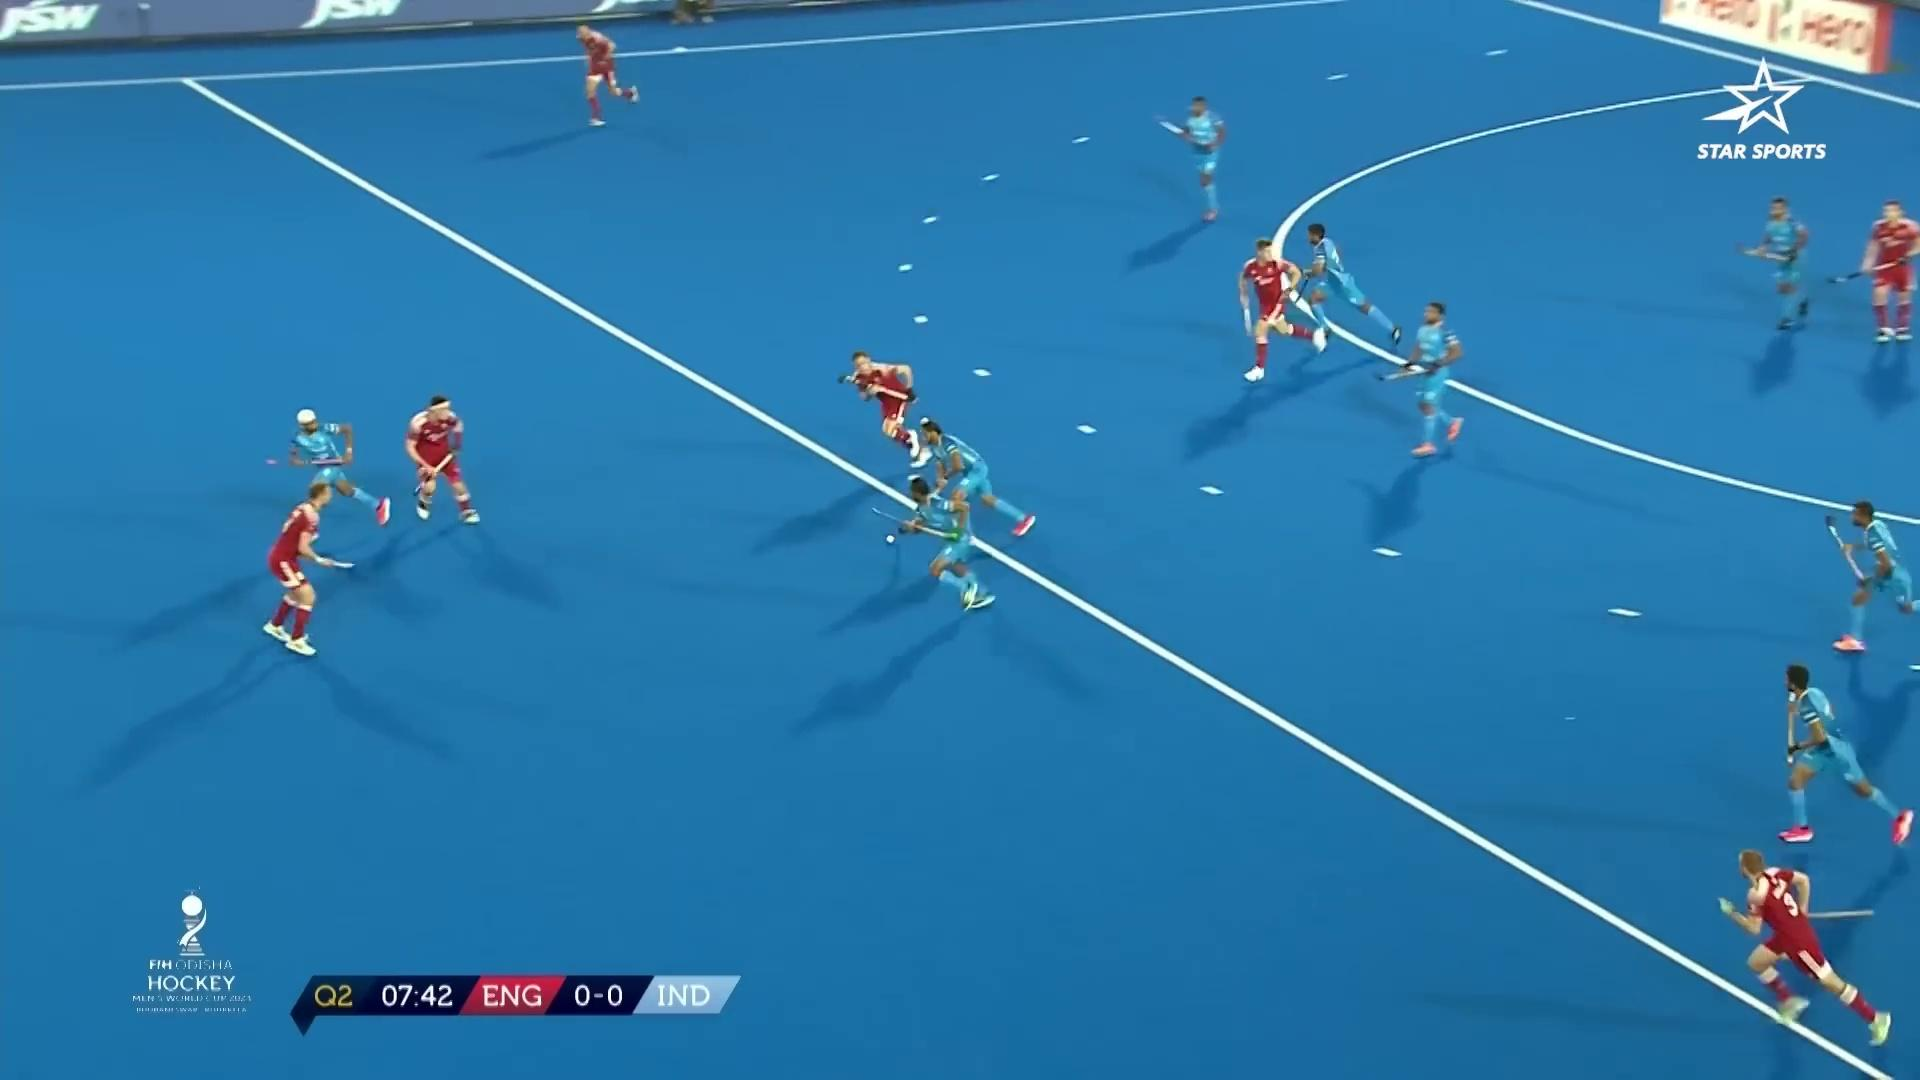ball: (881, 527, 899, 550)
